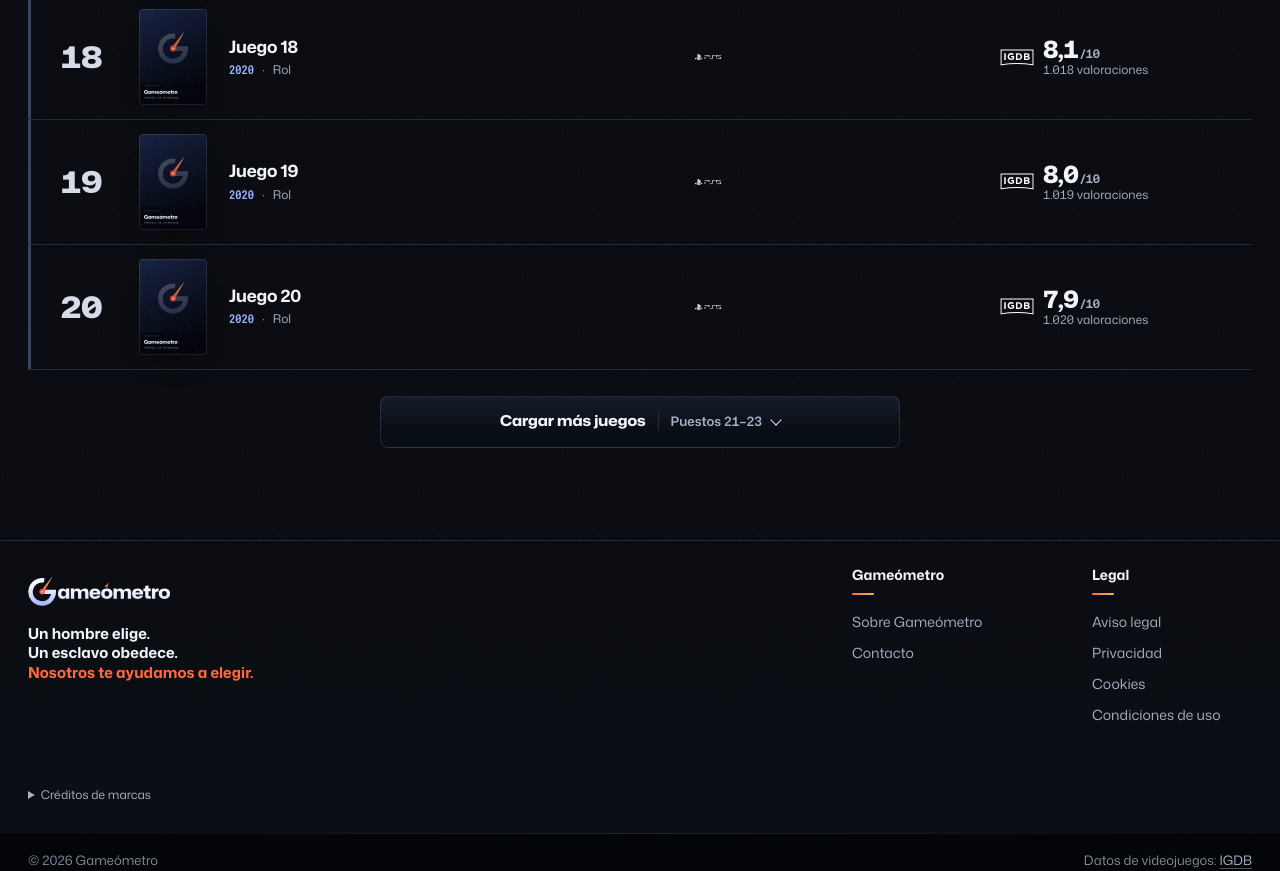
Scenario: TOPómetro page › keeps the loaded places when a further page fails and retries only that page
(page scrolled)
Click the button "Cargar más juegos Puestos 21–23" at point(640, 422), box [380, 396, 900, 448]
(page scrolled)
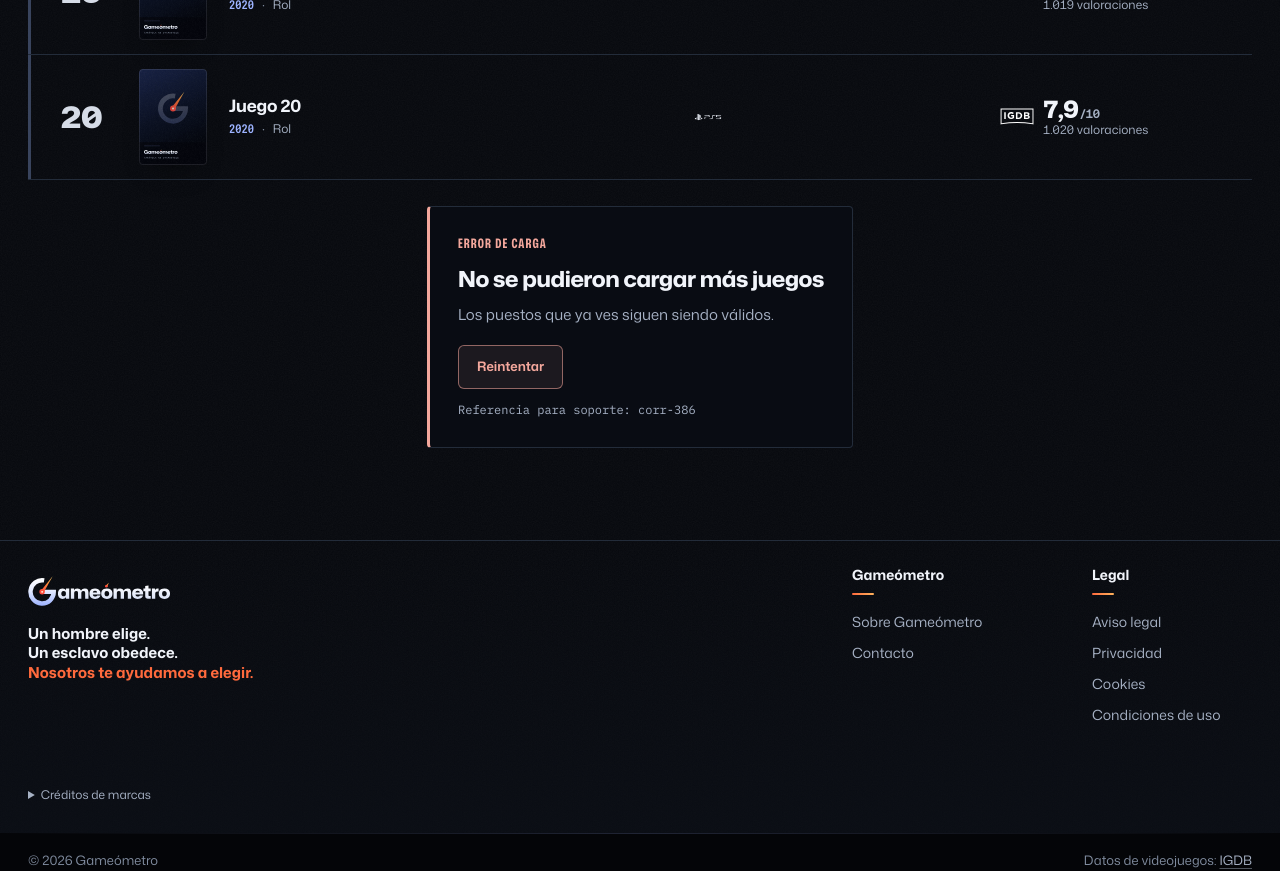
Check: the message shows "No se pudieron cargar más juegos", box [458, 262, 824, 294]
Check: the message shows "corr-386", box [638, 402, 696, 417]
Click the button "Reintentar" at point(511, 367), box [458, 345, 563, 389]
(page scrolled)
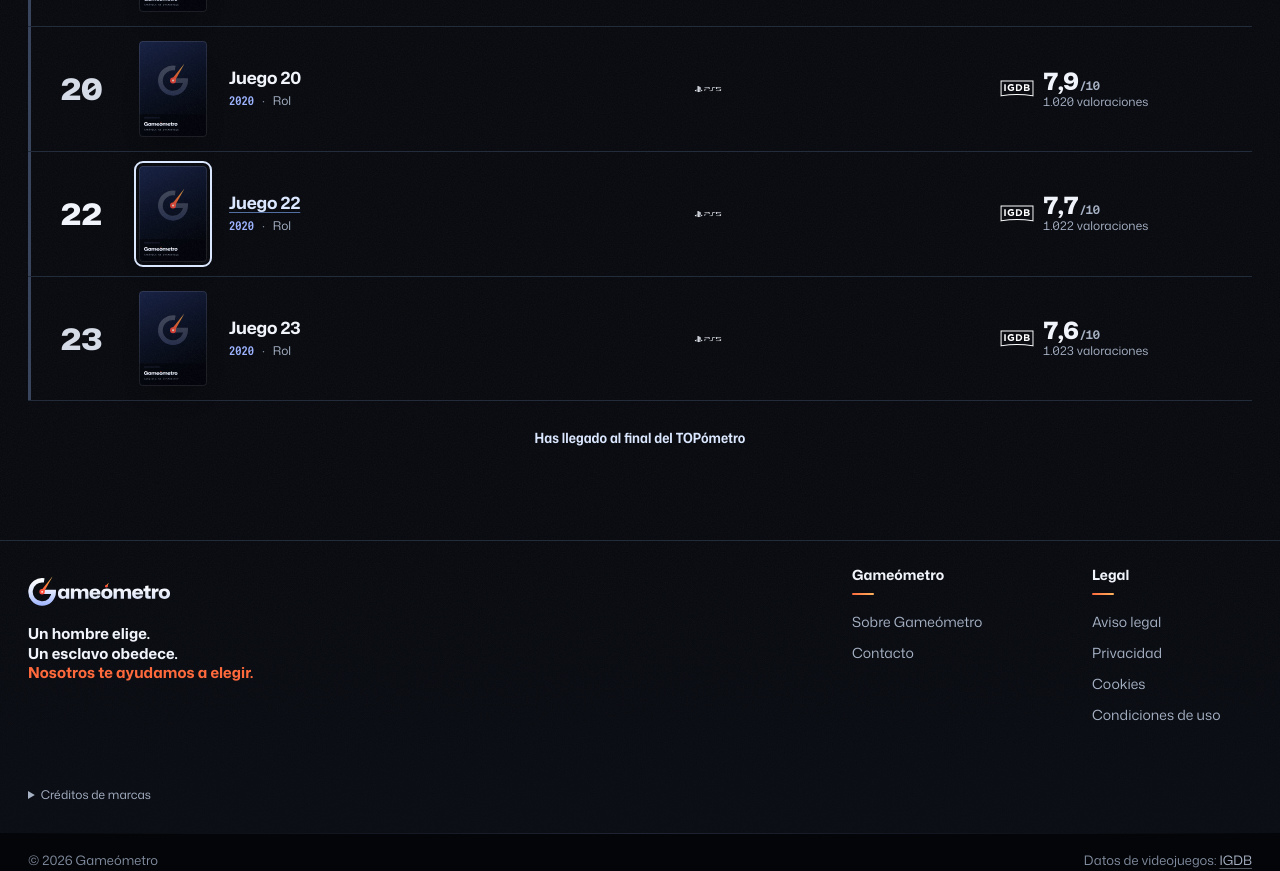
Check: the text "Has llegado al final del TOPómetro" is shown, box [535, 427, 745, 448]
